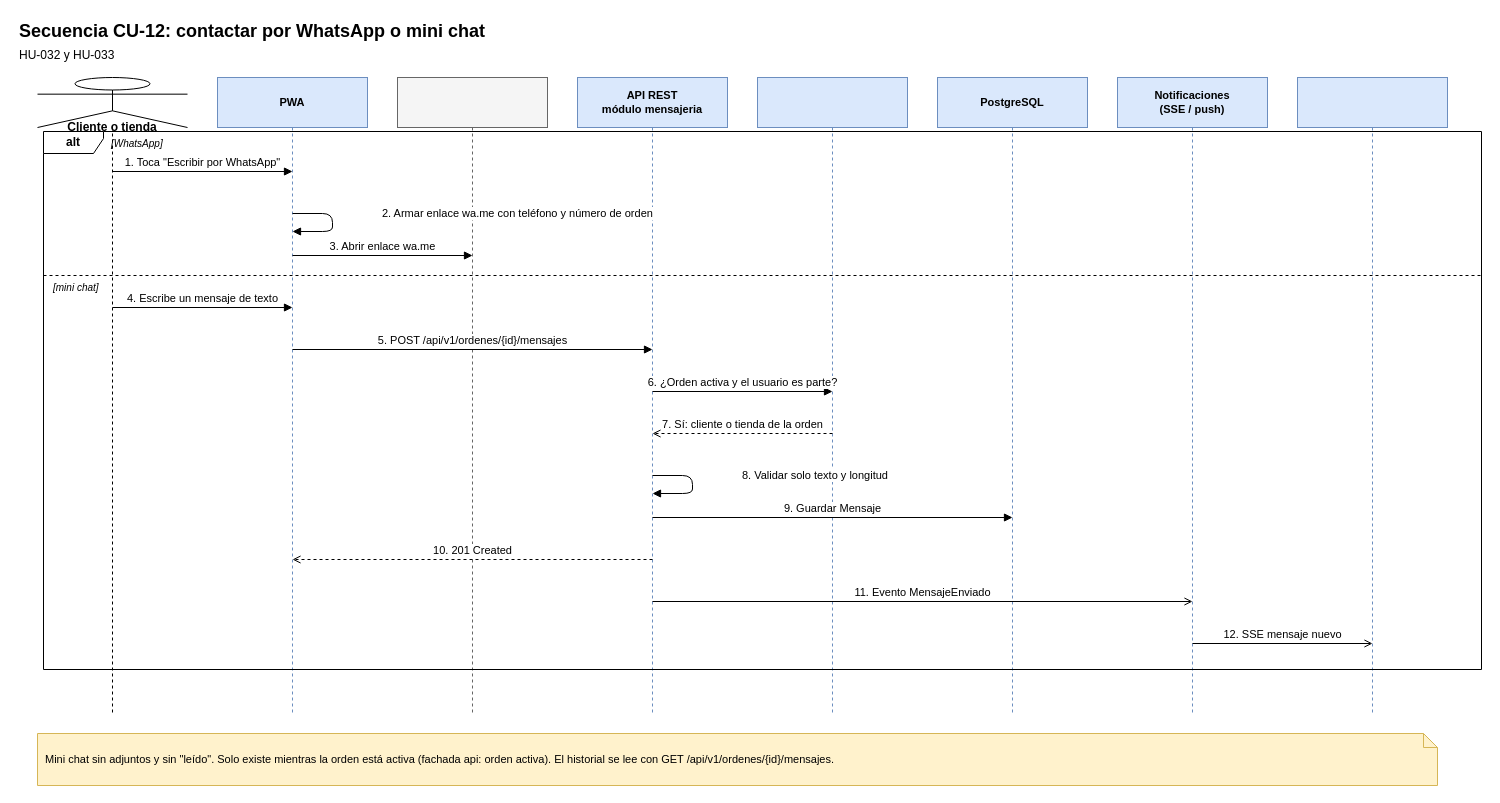
Some shapes in this 1500 by 803 pixel diagram are drawn without their labels. The box of each missing label's shape, as (x1, y1, x2, y2) in pixels:
módulo ordenes (fachada api): (756, 76, 908, 714)
PWA de la otra parte: (1296, 76, 1448, 714)
WhatsApp: (396, 76, 548, 714)
